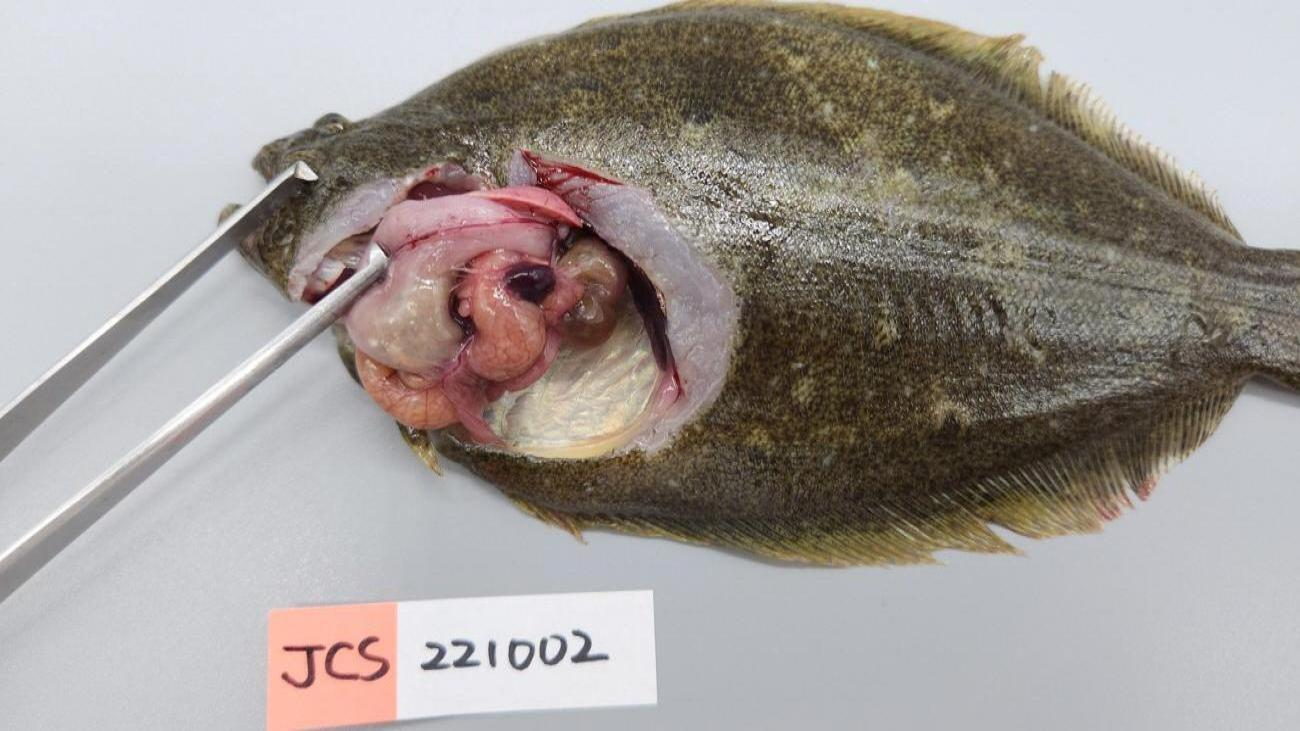POINN: (456, 247, 585, 401)
POSPN: (502, 262, 556, 307)
